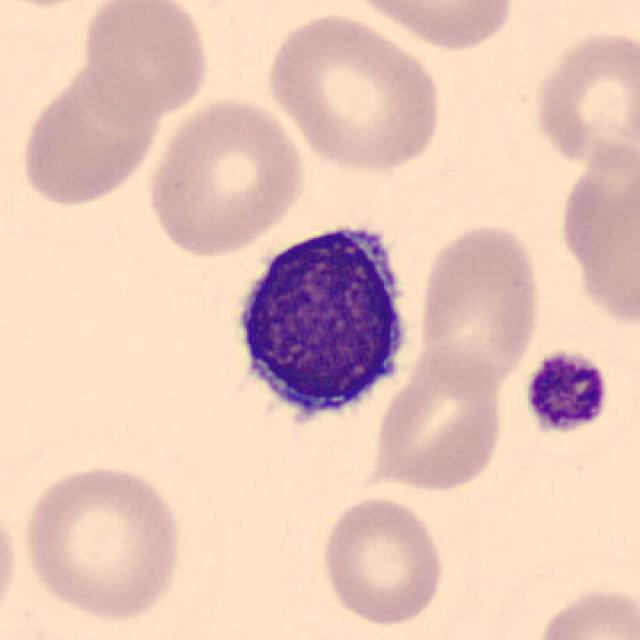Lymphocyte: (217, 208, 423, 444)
Platelets: (519, 346, 613, 437)
RBC: (261, 9, 448, 174), (143, 93, 310, 261), (18, 459, 188, 624), (412, 217, 546, 395), (368, 339, 510, 497), (26, 66, 166, 204), (316, 492, 448, 629), (76, 0, 214, 125), (554, 132, 640, 331), (528, 24, 638, 172), (343, 0, 519, 53), (530, 582, 638, 640), (0, 483, 23, 631)
